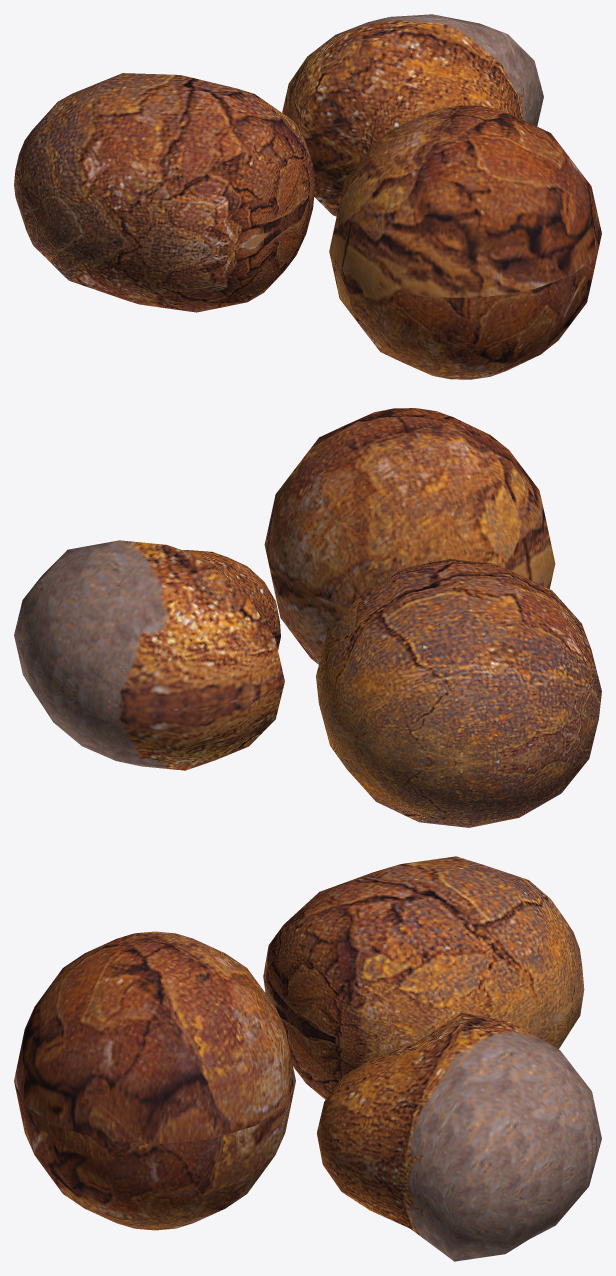
File: niuhuang.FBX
3 views of the same model, one above another, from view 1: azimuth 30°, elevation 25°; view 2: azimuth 150°, elevation 25°; view 3: azimuth 270°, elevation 25° (orthographic). The views are drawn at different scales.
Parts seen in each view (by area): view 1: Sphere003, Sphere001, Sphere002; view 2: Sphere001, Sphere002, Sphere003; view 3: Sphere003, Sphere001, Sphere002.
Part boxes in pixels (<box>): Sphere003: <box>329,105,601,379</box>; Sphere001: <box>14,73,315,312</box>; Sphere002: <box>282,14,543,216</box>; Sphere001: <box>316,559,601,827</box>; Sphere002: <box>14,540,284,770</box>; Sphere003: <box>264,408,555,664</box>; Sphere003: <box>14,931,295,1230</box>; Sphere001: <box>263,856,584,1099</box>; Sphere002: <box>317,1012,601,1261</box>.
Size of the model in its own units: 49.13 by 22.97 by 45.18.
1 material, 1 textured.
